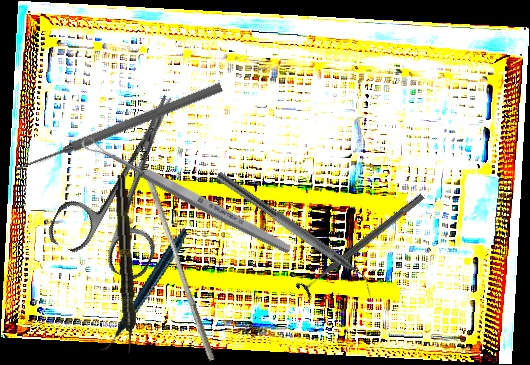Chopper: (208, 171, 382, 299)
Fixation Ring: (294, 186, 431, 304)
Handpiece: (70, 226, 216, 353), (113, 174, 138, 354)
Iris Scissors: (44, 75, 219, 285)
Pusher: (13, 80, 224, 176), (137, 171, 223, 362)
Surgical Spoon: (79, 133, 294, 257)
